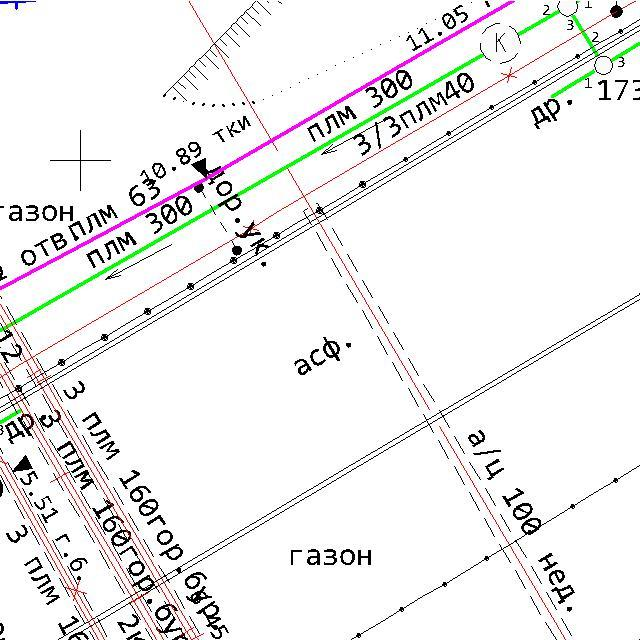asphalt: (293, 336, 353, 378)
bushes: (478, 20, 523, 65)
mark: (12, 454, 34, 474), (190, 157, 208, 180)
well: (592, 53, 615, 77)
